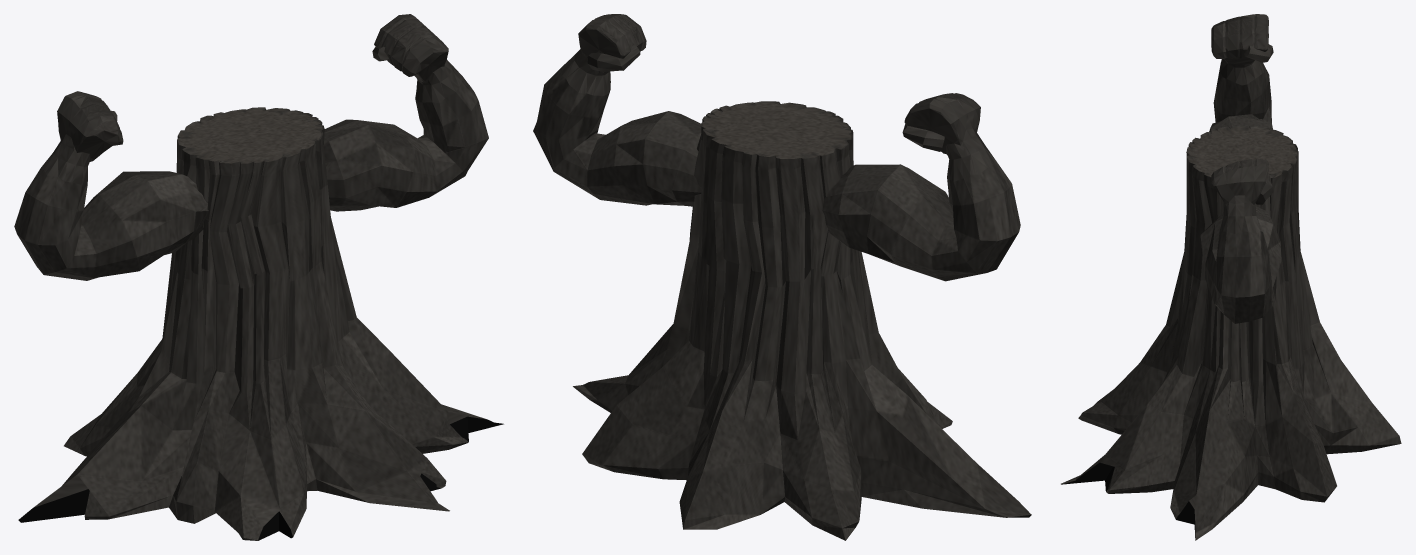
The model's file is mascot.glb.
3 renders of one model, left to right at view 1: azimuth 30°, elevation 25°; view 2: azimuth 150°, elevation 25°; view 3: azimuth 270°, elevation 25°, orthographic. The views are drawn at different scales.
Visible parts, largest first — view 1: STRNK • ridged trunk and grounded buttress roots.002; view 2: STRNK • ridged trunk and grounded buttress roots.002; view 3: STRNK • ridged trunk and grounded buttress roots.002.
Boxes of the visible parts, x1,y1,x2,y2 form: STRNK • ridged trunk and grounded buttress roots.002: (14, 14, 503, 540); STRNK • ridged trunk and grounded buttress roots.002: (533, 14, 1031, 540); STRNK • ridged trunk and grounded buttress roots.002: (1061, 14, 1401, 540).
Bounding box in the file's own units: 5.02 × 4.06 × 3.54.
Materials: 1 (1 with a texture image).
